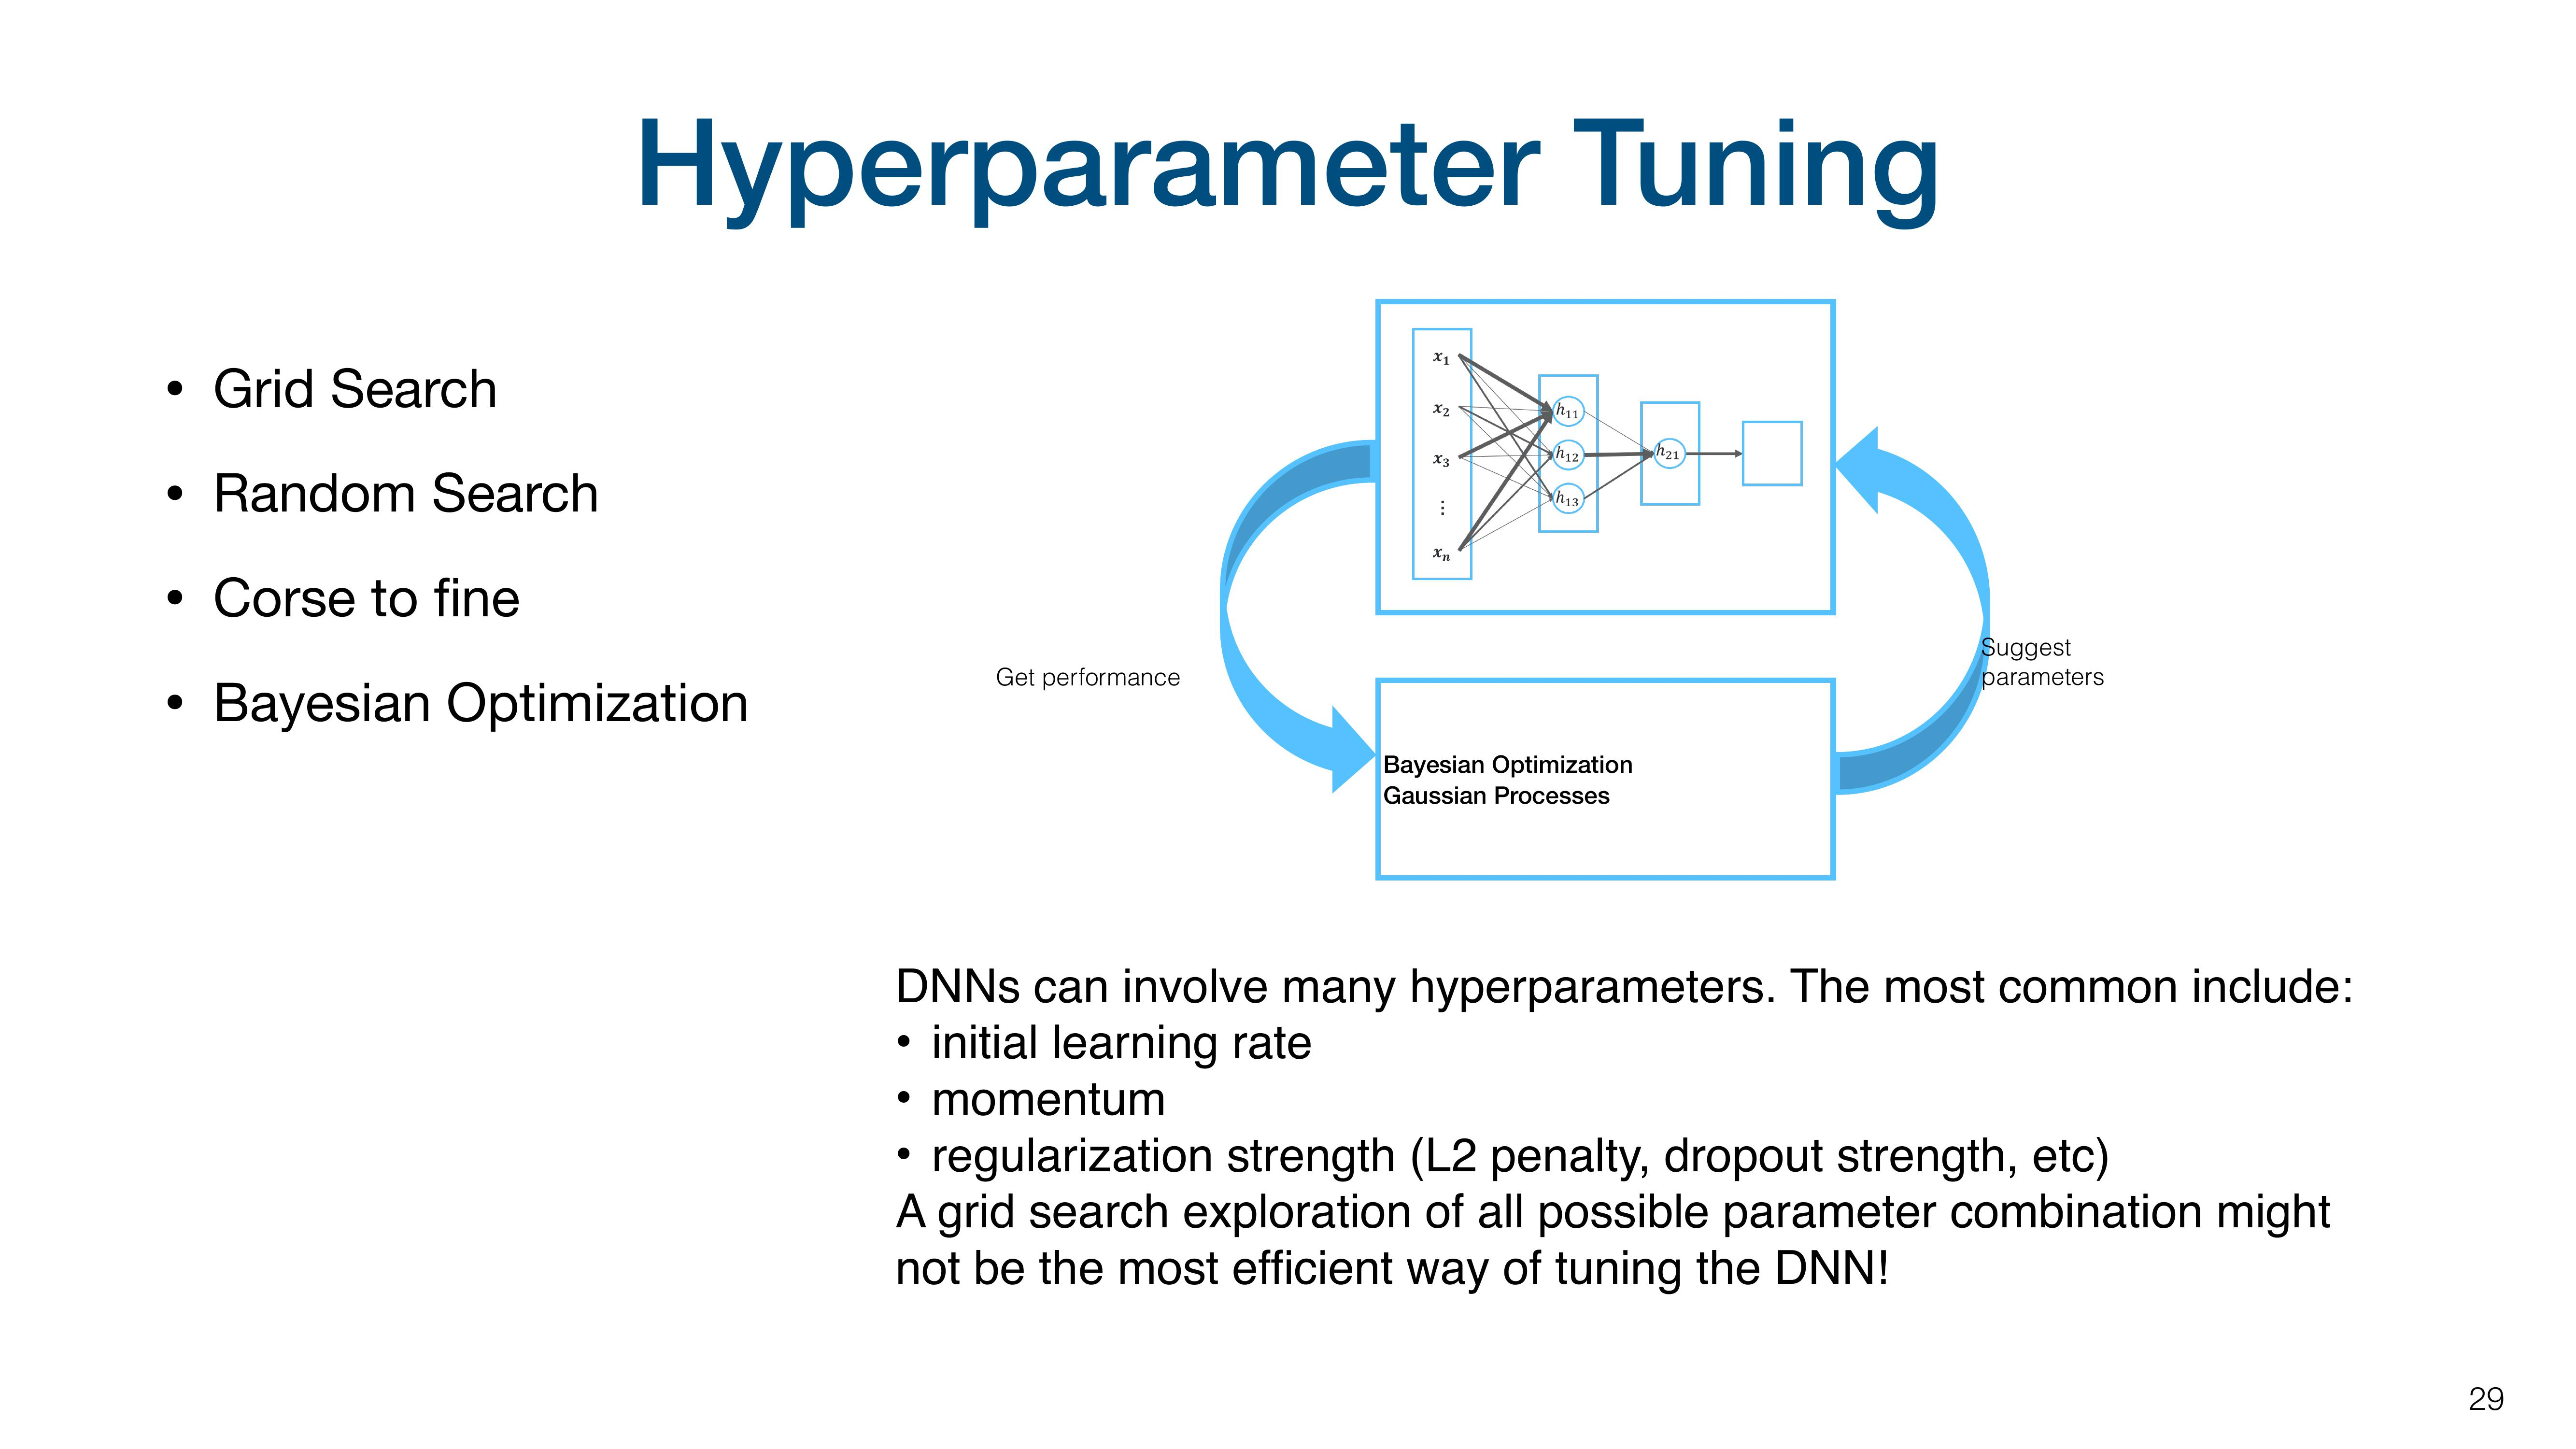Title: (619, 103, 1953, 260)
